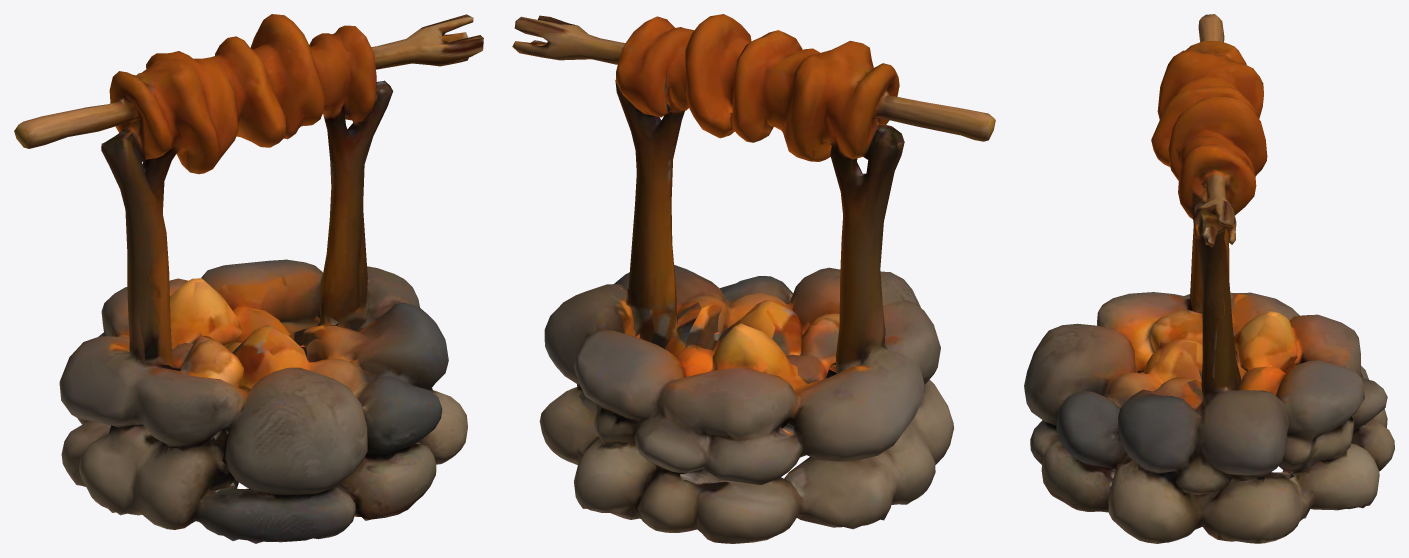
Rendered from prop_fire_pit_spit.glb.
The picture shows the model from 3 angles, left to right: view 1: azimuth 30°, elevation 25°; view 2: azimuth 150°, elevation 25°; view 3: azimuth 270°, elevation 25°; orthographic projection. The views are drawn at different scales.
Parts seen in each view (by area): view 1: geometry_0; view 2: geometry_0; view 3: geometry_0.
Boxes of the visible parts, x1=… form: geometry_0: x1=14, y1=14, x2=483, y2=543; geometry_0: x1=512, y1=14, x2=995, y2=543; geometry_0: x1=1024, y1=14, x2=1394, y2=543.
Bounding box in the file's own units: 1.32 × 1.18 × 1.02.
1 material, 1 textured.
